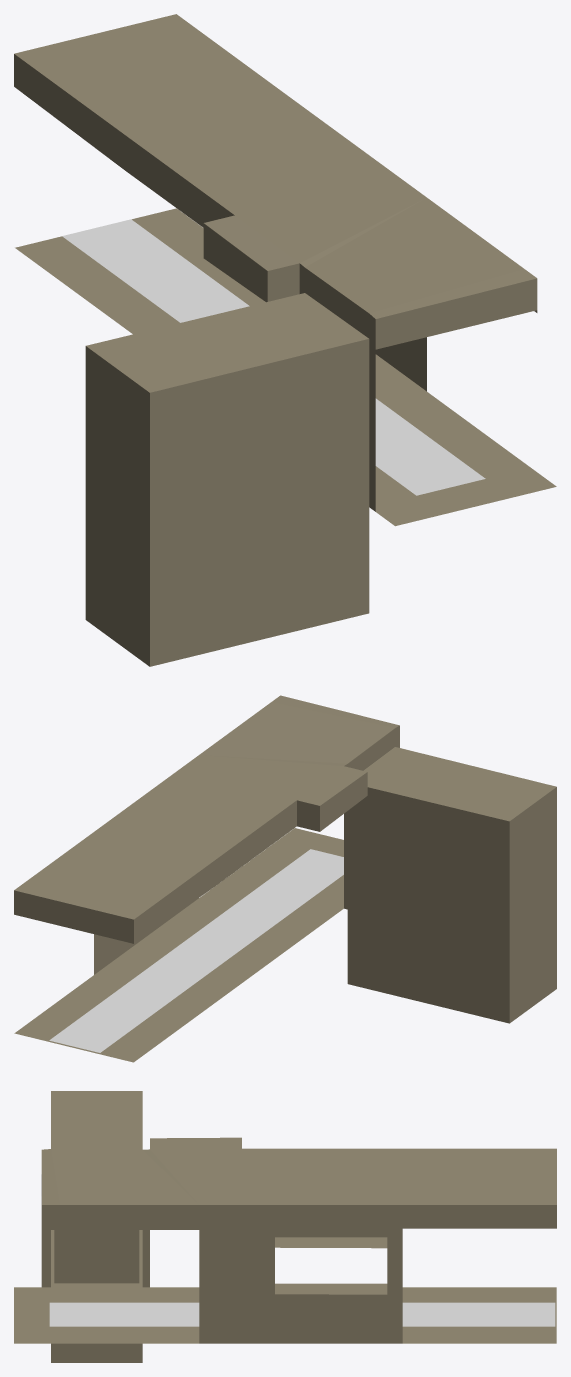
Rendered from MainCorridor.glb.
The picture shows the model from 3 angles, top to bottom: view 1: azimuth 30°, elevation 25°; view 2: azimuth 150°, elevation 25°; view 3: azimuth 270°, elevation 25°; orthographic projection. The views are drawn at different scales.
Parts seen in each view (by area): view 1: Corridor; view 2: Corridor; view 3: Corridor.
Part boxes in pixels (box(x1,y1,x2,y2)): Corridor: box(14, 14, 556, 666); Corridor: box(14, 695, 556, 1062); Corridor: box(14, 1091, 556, 1362).
Size of the model in its own units: 5.58 by 3.88 by 8.91.
